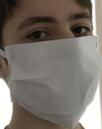with_mask: (1, 2, 102, 129)
